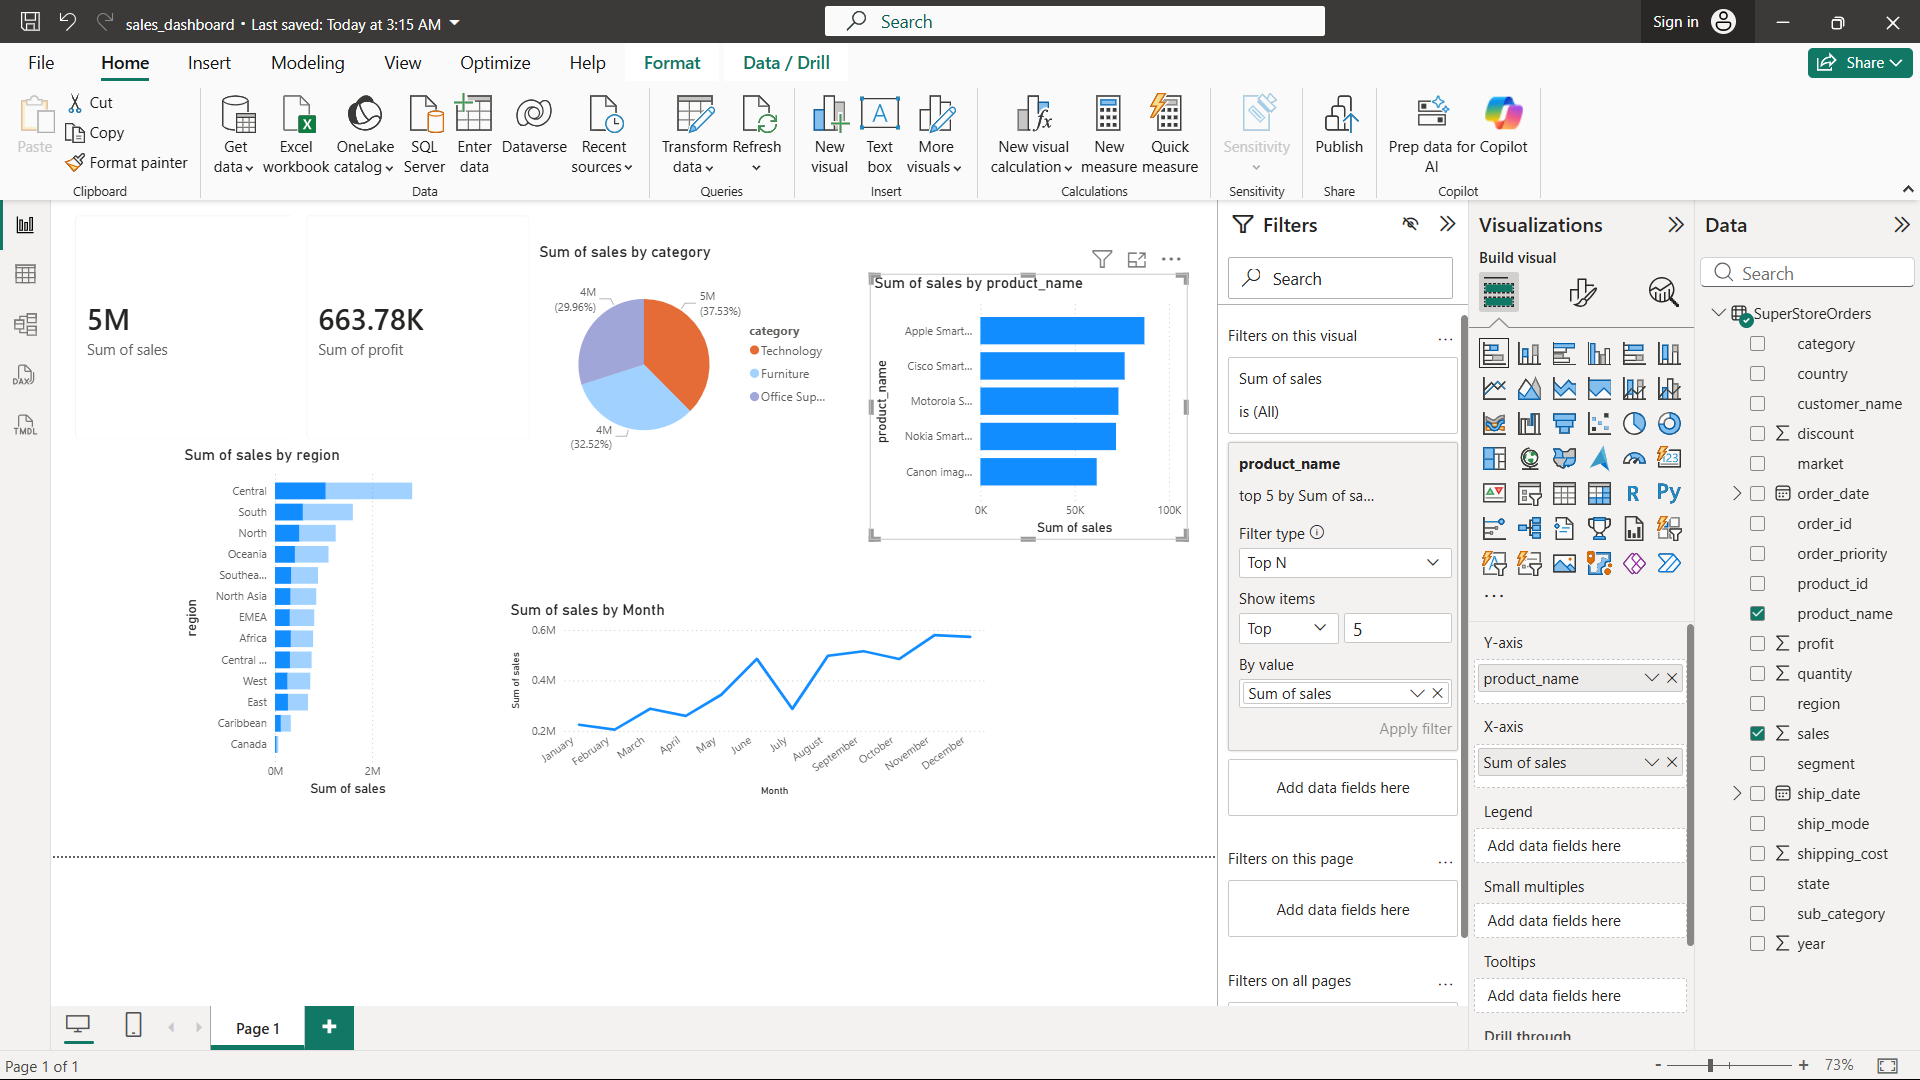

What the dashboard file says about the page in this screenshot:
{"tool":"powerbi","page":{"name":"Page 1","canvas":[1280,720],"ordinal":0},"visuals":[{"type":"cardVisual","fields":{"Data":["Sum(SuperStoreOrders.sales)"]},"box":[10,0,280,280],"z":0},{"type":"cardVisual","fields":{"Data":["Sum(SuperStoreOrders.profit)"]},"box":[262.8,0,279.1,280.2],"z":1000},{"type":"clusteredBarChart","fields":{"Category":["SuperStoreOrders.region"],"Y":["Sum(SuperStoreOrders.sales)"]},"box":[141.2,269.3,278.8,390.4],"z":2000},{"type":"pieChart","fields":{"Category":["SuperStoreOrders.category"],"Y":["Sum(SuperStoreOrders.sales)"]},"box":[530.4,46.3,339.3,249.2],"z":3000},{"type":"lineChart","fields":{"Category":["SuperStoreOrders.order_date.Variation.Date Hierarchy.Month"],"Y":["Sum(SuperStoreOrders.sales)"]},"box":[499.5,439,530.4,220.7],"z":4000},{"type":"barChart","fields":{"Category":["SuperStoreOrders.product_name"],"Y":["Sum(SuperStoreOrders.sales)"]},"box":[899.4,80.7,347.6,291.9],"z":4001}]}

Visuals, with their boxes on the page's 1280x720 design canvas (x1, y1, x2, y2). These are canvas units, not pixel positions in the 1920x1080 screenshot, which may show the page scaled, cropped or inside an application window:
cardVisual - Sum(SuperStoreOrders.sales): rect(10, 0, 290, 280)
cardVisual - Sum(SuperStoreOrders.profit): rect(263, 0, 542, 280)
clusteredBarChart - SuperStoreOrders.region x Sum(SuperStoreOrders.sales): rect(141, 269, 420, 660)
pieChart - SuperStoreOrders.category x Sum(SuperStoreOrders.sales): rect(530, 46, 870, 296)
lineChart - SuperStoreOrders.order_date.Variation.Date Hierarchy.Month x Sum(SuperStoreOrders.sales): rect(500, 439, 1030, 660)
barChart - SuperStoreOrders.product_name x Sum(SuperStoreOrders.sales): rect(899, 81, 1247, 373)
